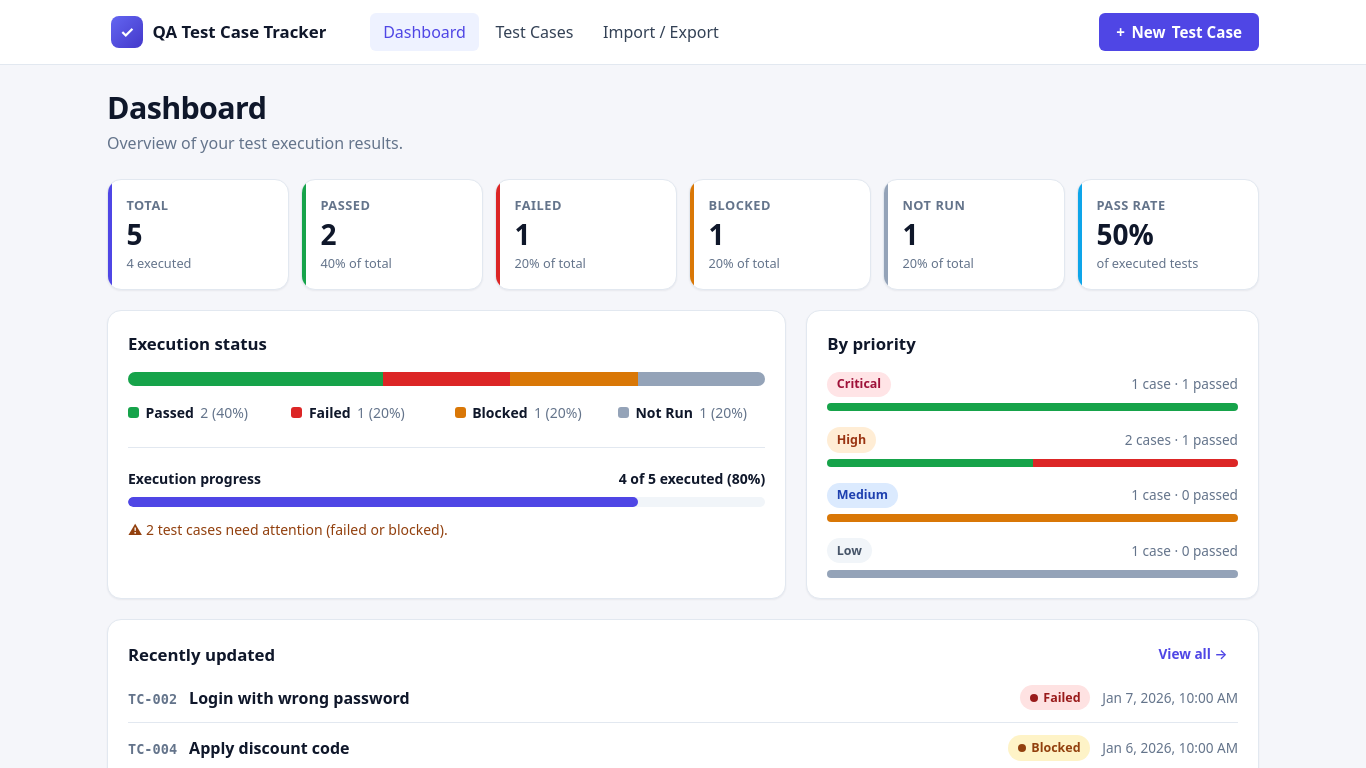
Test: App › opens the list filtered by status from a dashboard card and keeps search working
This screenshot has width=1366, height=768.
Click the button with aria-label "show failed test cases": point(586, 234) left=495, top=179, right=677, bottom=290
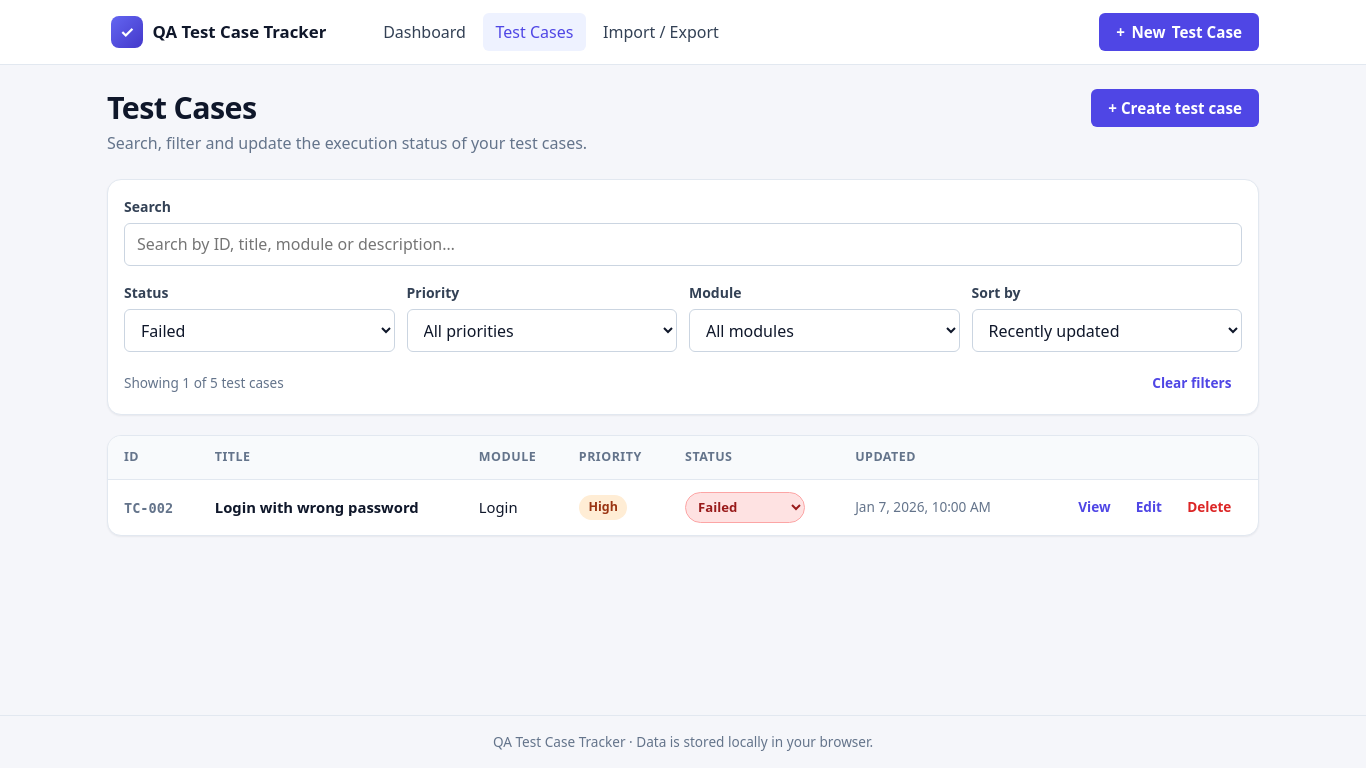
Expected: the dropdown labelled "Status" shows "Failed", left=124, top=309, right=394, bottom=352
Expected: the number of rows is 2, left=108, top=436, right=1258, bottom=479; left=108, top=480, right=1258, bottom=535
Click the button "Clear filters": point(1192, 383) left=1142, top=368, right=1242, bottom=398
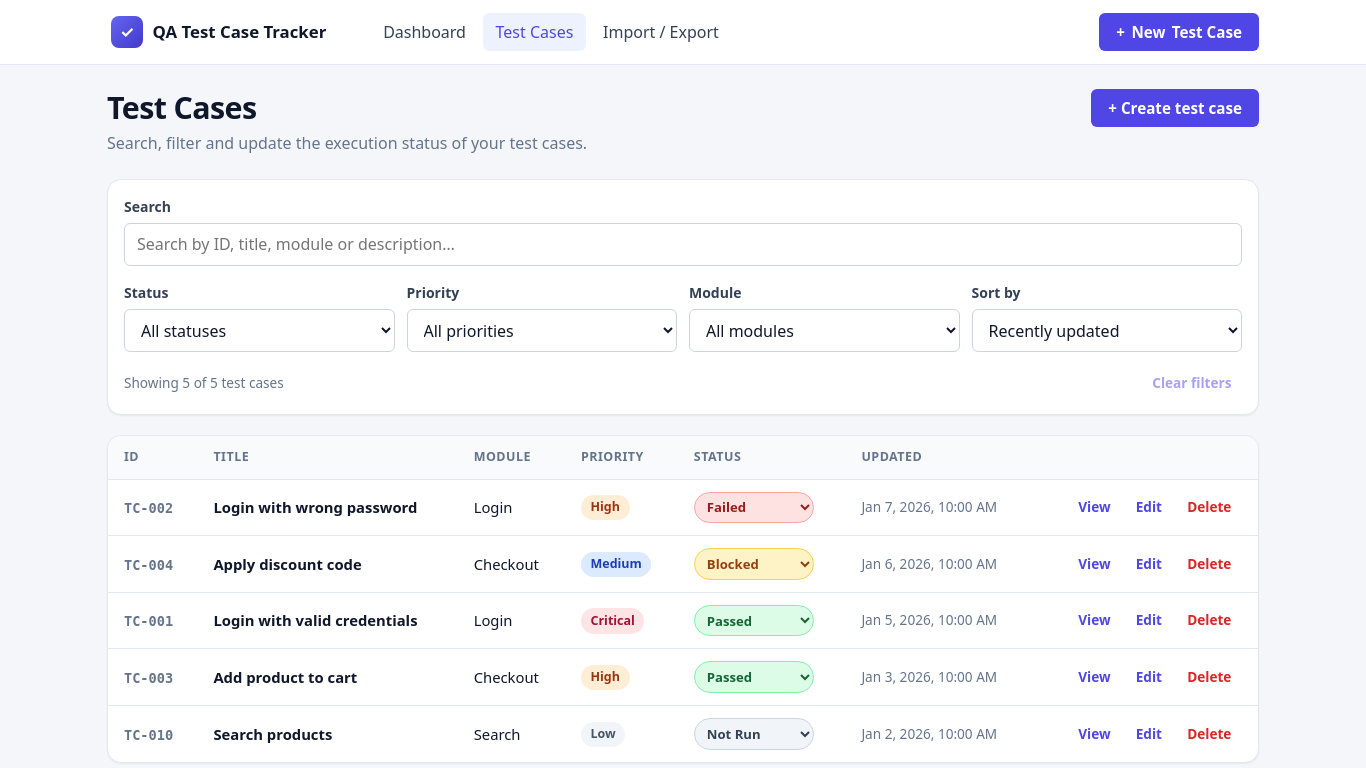
In the search field labelled "Search": point(683, 244) left=124, top=223, right=1242, bottom=266, type "checkout"
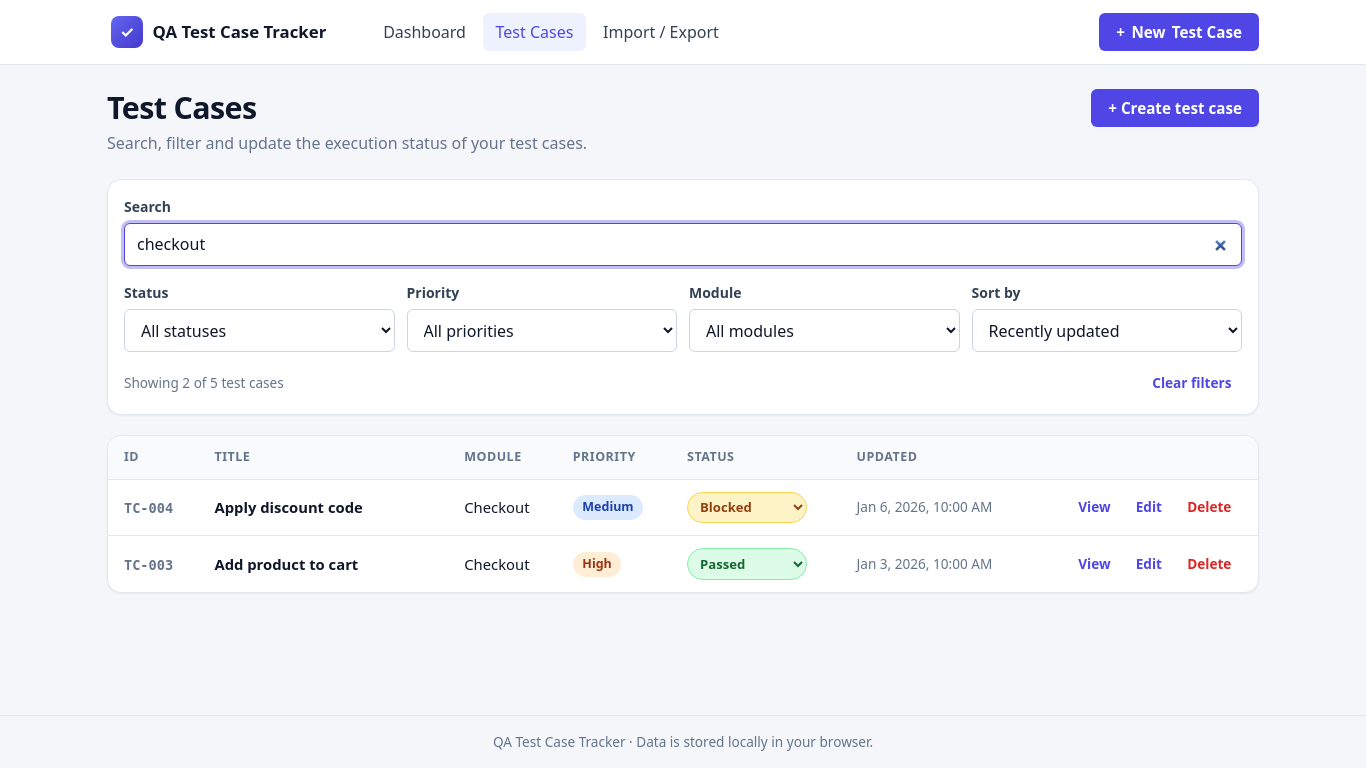
Expected: the number of rows is 3, left=108, top=436, right=1258, bottom=479; left=108, top=480, right=1258, bottom=536; left=108, top=536, right=1258, bottom=592
